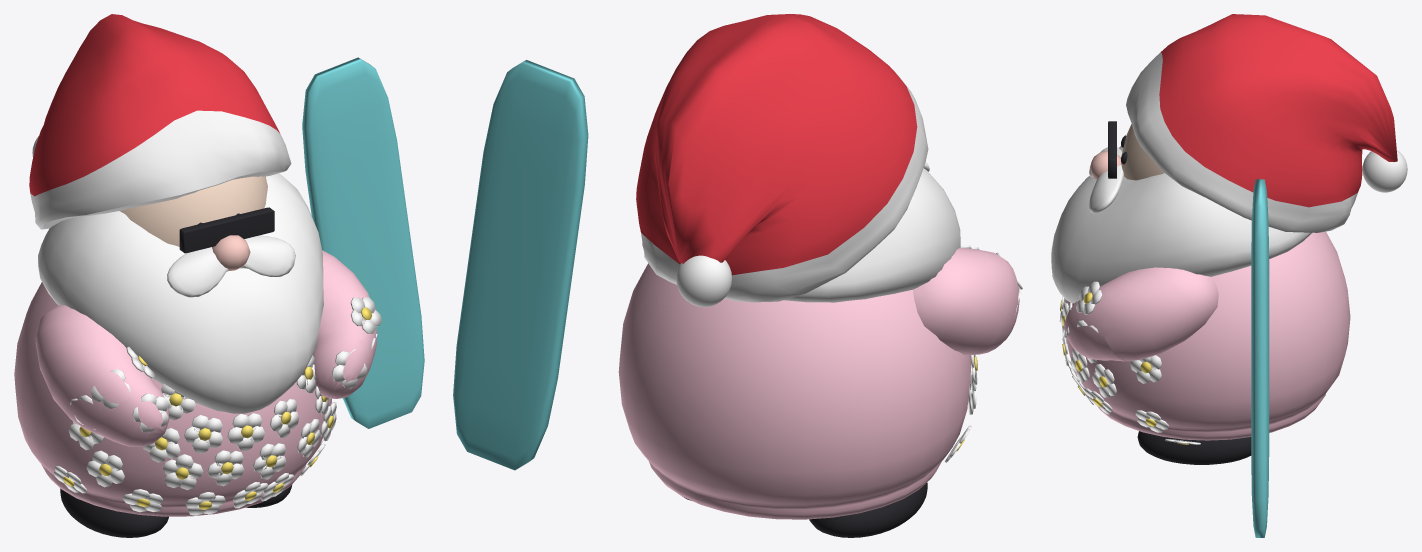
The model's file is surfer.glb.
3 views of the same model, side by side, from view 1: azimuth 30°, elevation 25°; view 2: azimuth 150°, elevation 25°; view 3: azimuth 270°, elevation 25° (orthographic). The views are drawn at different scales.
Parts seen in each view (by area): view 1: surfer_white, surfer_lightpink, surfer_teal, surfer_red, surfer_black, surfer_skin, surfer_yellow, surfer_nose; view 2: surfer_lightpink, surfer_red, surfer_teal, surfer_white, surfer_black; view 3: surfer_lightpink, surfer_red, surfer_white, surfer_teal, surfer_black, surfer_skin, surfer_yellow, surfer_nose.
Part boxes in pixels (x1,y1,x2,y2): surfer_white: [30, 110, 381, 515]; surfer_lightpink: [14, 250, 376, 516]; surfer_teal: [302, 57, 424, 428]; surfer_red: [29, 14, 279, 196]; surfer_black: [60, 207, 291, 537]; surfer_skin: [120, 176, 267, 246]; surfer_yellow: [63, 307, 371, 509]; surfer_nose: [212, 235, 250, 270]; surfer_lightpink: [618, 243, 1019, 519]; surfer_red: [636, 14, 917, 275]; surfer_teal: [453, 60, 588, 470]; surfer_white: [641, 72, 1022, 462]; surfer_black: [682, 482, 927, 537]; surfer_lightpink: [1064, 231, 1350, 440]; surfer_red: [1159, 14, 1397, 207]; surfer_white: [1051, 52, 1407, 444]; surfer_teal: [1251, 179, 1269, 537]; surfer_black: [1108, 121, 1251, 464]; surfer_skin: [1120, 124, 1163, 180]; surfer_yellow: [1060, 292, 1188, 444]; surfer_nose: [1090, 150, 1121, 179].
Bounding box in the file's own units: 2.97 × 2.98 × 2.37.
